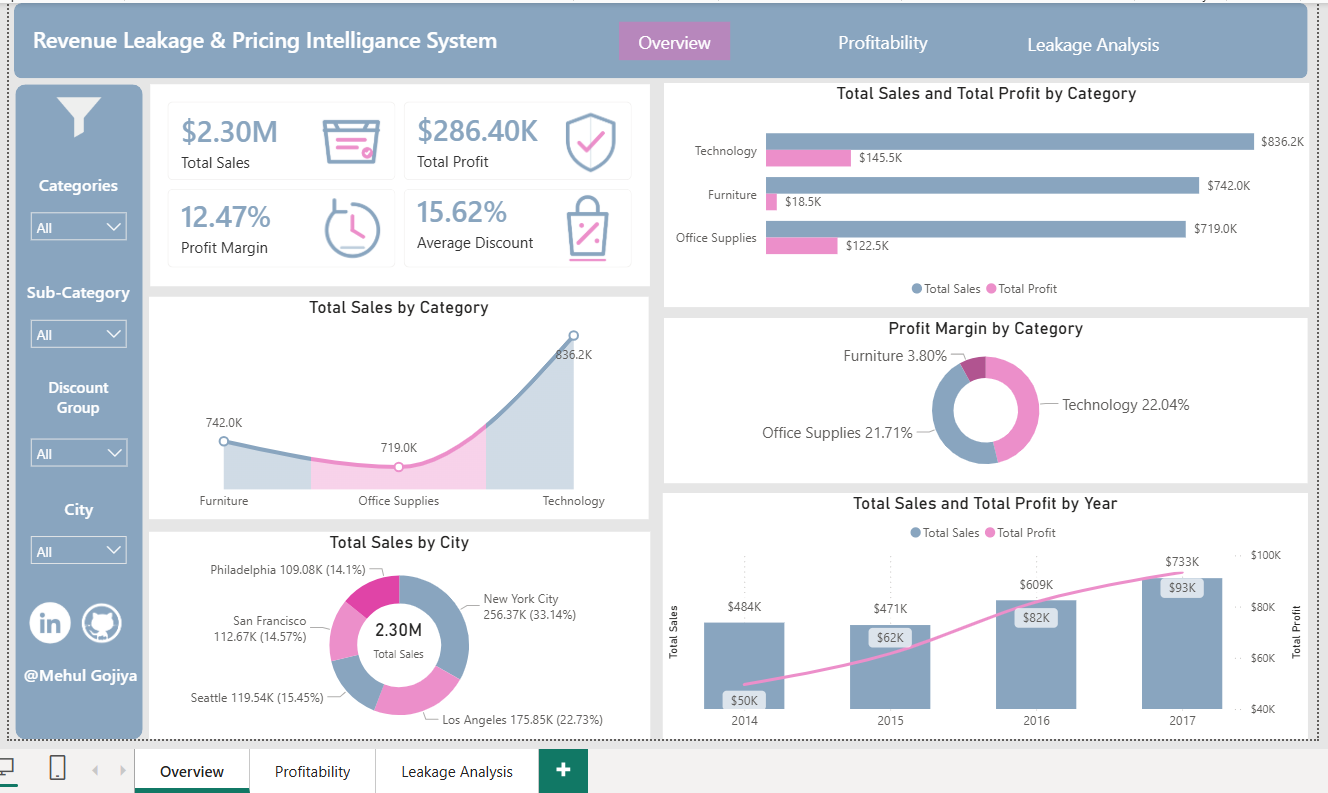

This screenshot's page, from the dashboard's own definition file:
{"tool":"powerbi","page":{"name":"Overview","canvas":[1280,720],"ordinal":0},"visuals":[{"type":"cardVisual","fields":{"Data":["Cleaned_Superstore.Total Sales","Cleaned_Superstore.Total Profit","Cleaned_Superstore.Profit Margin","Cleaned_Superstore.Average Discount"]},"box":[138.6,79.6,488.5,197.6],"z":0},{"type":"clusteredBarChart","fields":{"Category":["Cleaned_Superstore.Category"],"Y":["Cleaned_Superstore.Total Sales","Cleaned_Superstore.Total Profit"]},"box":[640.8,78.2,631.2,219.6],"z":1000},{"type":"areaChart","fields":{"Category":["Cleaned_Superstore.Category"],"Y":["Cleaned_Superstore.Total Sales"]},"box":[137,287.4,489.1,217.7],"z":2000},{"type":"lineStackedColumnComboChart","fields":{"Category":["Cleaned_Superstore.Order Date.Variation.Date Hierarchy.Year"],"Y":["Cleaned_Superstore.Total Sales"],"Y2":["Cleaned_Superstore.Total Profit"]},"box":[639.5,478.9,631.2,241.5],"z":3000},{"type":"donutChart","fields":{"Category":["Cleaned_Superstore.City"],"Y":["Cleaned_Superstore.Total Sales"]},"box":[137.1,517.1,490,203.3],"z":4000},{"type":"shape","box":[5,0,1265.6,73.8],"z":5000},{"type":"shape","box":[6.2,79.5,124.8,641],"z":6000},{"type":"textbox","box":[18.3,15.9,505,61.1],"z":7000},{"type":"actionButton","box":[596.7,18.3,108.8,37.9],"z":8000},{"type":"actionButton","box":[797.3,17.8,115.3,38.4],"z":12000},{"type":"actionButton","box":[975.8,20.8,170,37.9],"z":13000},{"type":"image","box":[46.5,79.5,44,64.8],"z":14000},{"type":"slicer","fields":{"Values":["Cleaned_Superstore.Category"]},"box":[11.6,194.7,113.7,52.6],"z":15000},{"type":"textbox","box":[11.6,161.6,113.7,33.2],"z":16000},{"type":"slicer","fields":{"Values":["Cleaned_Superstore.Sub-Category"]},"box":[11.1,299.5,113.7,52.1],"z":17000},{"type":"slicer","fields":{"Values":["Cleaned_Superstore.Discount_Group"]},"box":[11.1,415.8,114.7,54.2],"z":18000},{"type":"slicer","fields":{"Values":["Cleaned_Superstore.City"]},"box":[11.1,511.1,113.7,52.6],"z":19000},{"type":"textbox","box":[11.6,266.3,113.7,33.2],"z":20000},{"type":"textbox","box":[11.6,361.1,113.7,54.7],"z":21000},{"type":"textbox","box":[14.2,478.4,107.4,32.6],"z":22000},{"type":"image","box":[56.4,567.6,68.8,78],"z":23000},{"type":"image","box":[12,576.4,56,61.2],"z":24000},{"type":"textbox","box":[0,640.8,139.6,32.8],"z":25000},{"type":"card","fields":{"Values":["Cleaned_Superstore.Total Sales"]},"box":[315.6,580.4,131.7,78.2],"z":26000},{"type":"donutChart","fields":{"Category":["Cleaned_Superstore.Category"],"Y":["Cleaned_Superstore.Profit Margin"]},"box":[640.8,308.7,629.8,161.9],"z":27000}]}

Visuals, with their boxes on the page's 1280x720 design canvas (x1, y1, x2, y2). These are canvas units, not pixel positions in the 1328x793 screenshot, which may show the page scaled, cropped or inside an application window:
cardVisual - Cleaned_Superstore.Total Sales x Cleaned_Superstore.Total Profit: region(139, 80, 627, 277)
clusteredBarChart - Cleaned_Superstore.Category x Cleaned_Superstore.Total Sales: region(641, 78, 1272, 298)
areaChart - Cleaned_Superstore.Category x Cleaned_Superstore.Total Sales: region(137, 287, 626, 505)
lineStackedColumnComboChart - Cleaned_Superstore.Order Date.Variation.Date Hierarchy.Year x Cleaned_Superstore.Total Sales: region(640, 479, 1271, 720)
donutChart - Cleaned_Superstore.City x Cleaned_Superstore.Total Sales: region(137, 517, 627, 720)
shape: region(5, 0, 1271, 74)
shape: region(6, 80, 131, 720)
textbox: region(18, 16, 523, 77)
actionButton: region(597, 18, 706, 56)
actionButton: region(797, 18, 913, 56)
actionButton: region(976, 21, 1146, 59)
image: region(46, 80, 90, 144)
slicer - Cleaned_Superstore.Category: region(12, 195, 125, 247)
textbox: region(12, 162, 125, 195)
slicer - Cleaned_Superstore.Sub-Category: region(11, 300, 125, 352)
slicer - Cleaned_Superstore.Discount_Group: region(11, 416, 126, 470)
slicer - Cleaned_Superstore.City: region(11, 511, 125, 564)
textbox: region(12, 266, 125, 300)
textbox: region(12, 361, 125, 416)
textbox: region(14, 478, 122, 511)
image: region(56, 568, 125, 646)
image: region(12, 576, 68, 638)
textbox: region(0, 641, 140, 674)
card - Cleaned_Superstore.Total Sales: region(316, 580, 447, 659)
donutChart - Cleaned_Superstore.Category x Cleaned_Superstore.Profit Margin: region(641, 309, 1271, 471)
